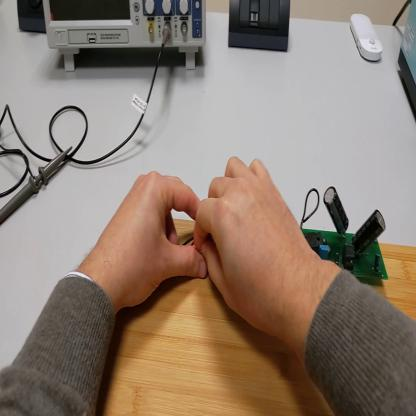hand: (194, 156, 310, 339), (100, 171, 206, 309)
high voltage board: (183, 177, 390, 285)
oscilloscope: (43, 3, 207, 74)
oscilloscope probe tip: (1, 145, 73, 227)
socket: (18, 3, 48, 36)
welder station: (398, 1, 416, 121)
working area: (96, 214, 416, 416)
